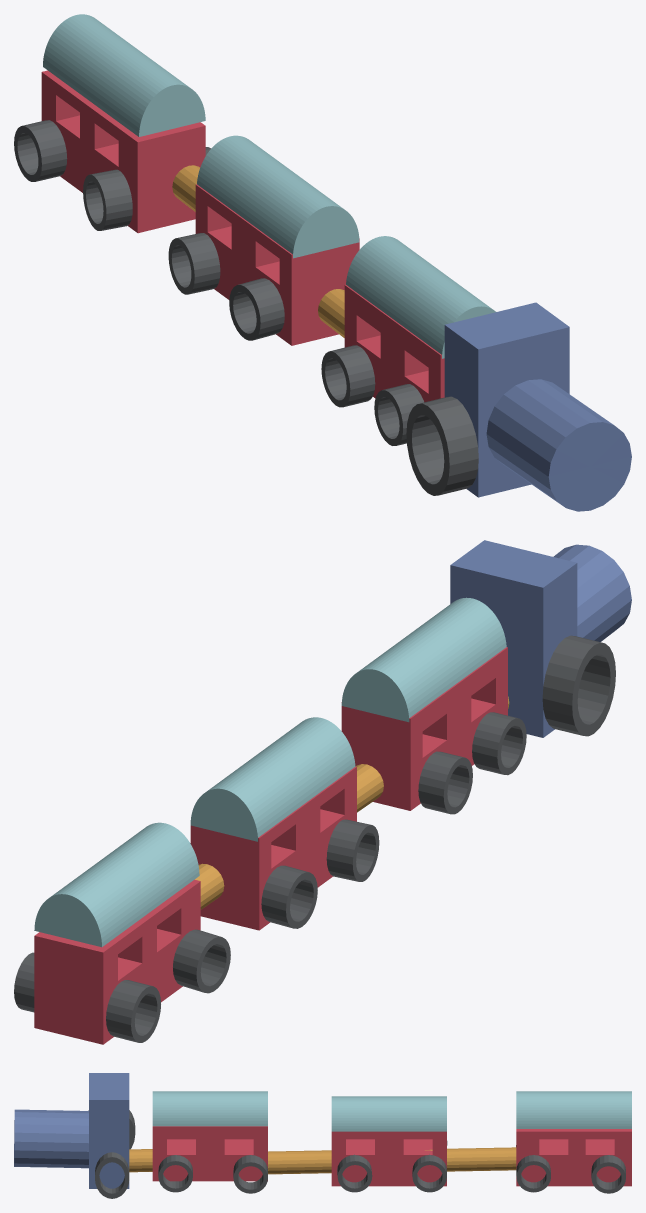
Rendered from Dazzling Curcan.glb.
The picture shows the model from 3 angles, top to bottom: view 1: azimuth 30°, elevation 25°; view 2: azimuth 150°, elevation 25°; view 3: azimuth 270°, elevation 25°; orthographic projection. The views are drawn at different scales.
Visible parts, largest first — view 1: Mesh_Mesh_head_geo.001_lambert2SG.001; view 2: Mesh_Mesh_head_geo.001_lambert2SG.001; view 3: Mesh_Mesh_head_geo.001_lambert2SG.001.
Boxes of the visible parts, left/top/right/bottom form: Mesh_Mesh_head_geo.001_lambert2SG.001: left=14, top=14, right=631, bottom=511; Mesh_Mesh_head_geo.001_lambert2SG.001: left=14, top=540, right=631, bottom=1044; Mesh_Mesh_head_geo.001_lambert2SG.001: left=14, top=1073, right=631, bottom=1198.
Bounding box in the file's own units: 17 × 18 × 107.
